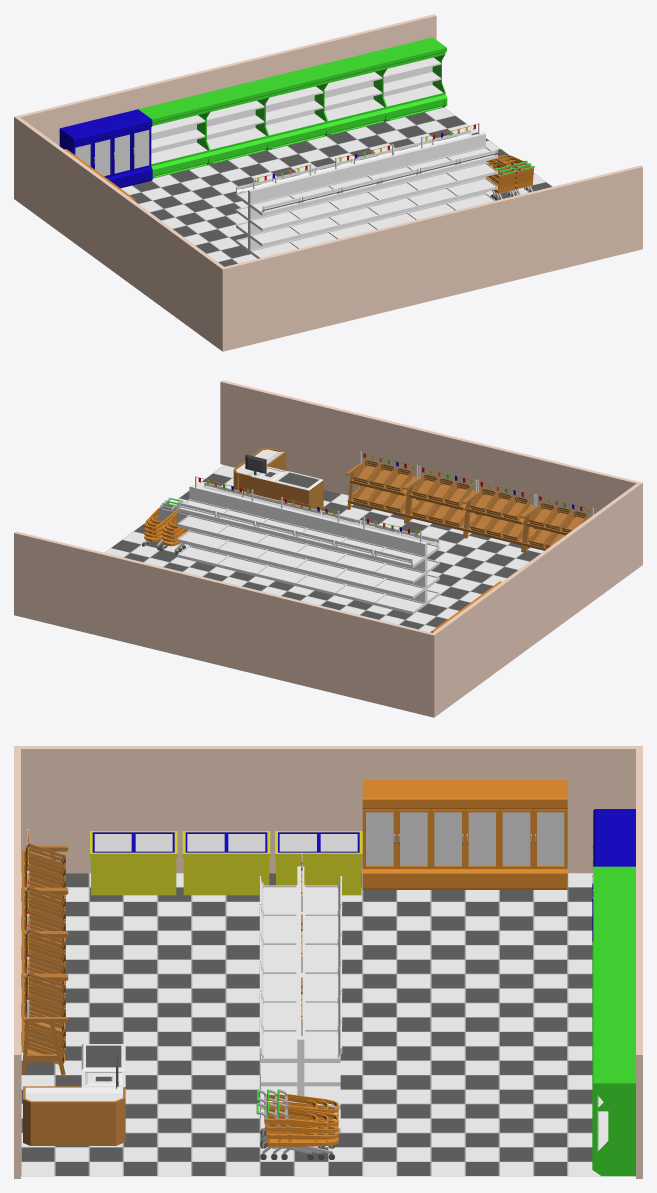
Rendered from Interior.fbx.
3 views of the same model, one above another, from view 1: azimuth 30°, elevation 25°; view 2: azimuth 150°, elevation 25°; view 3: azimuth 270°, elevation 25° (orthographic). The views are drawn at different scales.
Visible parts, largest first — view 1: Cube.037, Plane.033, Cube.050, Cube.051, Cube.053, Cube.054, Cube.052, Plane.049, Plane.048, Plane.045, Plane.047, Plane.046 (+10 smaller); view 2: Cube.037, Plane.033, Cube.045, Plane.050, Plane.009, Cube.049, Plane.008, Plane.052, Plane.051, Plane.055, Plane.053, Plane.054 (+5 smaller); view 3: Plane.033, Cube.037, Cube.045, Cube.054, Lmari Es Bsr, Lmari Es Bsr.001, Lmari Es Bsr.002, Freezer.002, Freezer.001, Cube.049, Freezer, Kaca Lmari Es Bsr (+32 smaller).
Part boxes in pixels (x1,y1,x2,y2): Cube.037: [14, 14, 642, 351]; Plane.033: [121, 107, 552, 266]; Cube.050: [197, 80, 270, 164]; Cube.051: [256, 66, 329, 150]; Cube.053: [315, 51, 388, 135]; Cube.054: [374, 37, 447, 121]; Cube.052: [138, 95, 211, 178]; Plane.049: [249, 181, 301, 258]; Plane.048: [288, 171, 340, 248]; Plane.045: [406, 143, 458, 219]; Plane.047: [328, 162, 380, 238]; Plane.046: [367, 152, 419, 229]; Cube.037: [14, 380, 642, 717]; Plane.033: [104, 465, 543, 632]; Cube.045: [233, 447, 323, 513]; Plane.050: [373, 534, 426, 614]; Plane.009: [463, 480, 535, 552]; Cube.049: [346, 451, 418, 523]; Plane.008: [405, 466, 476, 537]; Plane.052: [295, 514, 347, 595]; Plane.051: [334, 524, 386, 604]; Plane.055: [177, 486, 229, 566]; Plane.053: [256, 505, 307, 585]; Plane.054: [216, 495, 268, 576]; Plane.033: [21, 873, 600, 1176]; Cube.037: [14, 746, 642, 1178]; Cube.045: [23, 1044, 125, 1145]; Cube.054: [592, 1040, 635, 1176]; Lmari Es Bsr: [499, 780, 567, 889]; Lmari Es Bsr.001: [431, 780, 499, 889]; Lmari Es Bsr.002: [362, 780, 430, 889]; Freezer.002: [90, 831, 177, 895]; Freezer.001: [182, 831, 270, 895]; Cube.049: [22, 958, 68, 1074]; Freezer: [275, 831, 362, 895]; Kaca Lmari Es Bsr: [502, 812, 564, 865].
Bounding box in the file's own units: 2139 × 401 × 1840.
